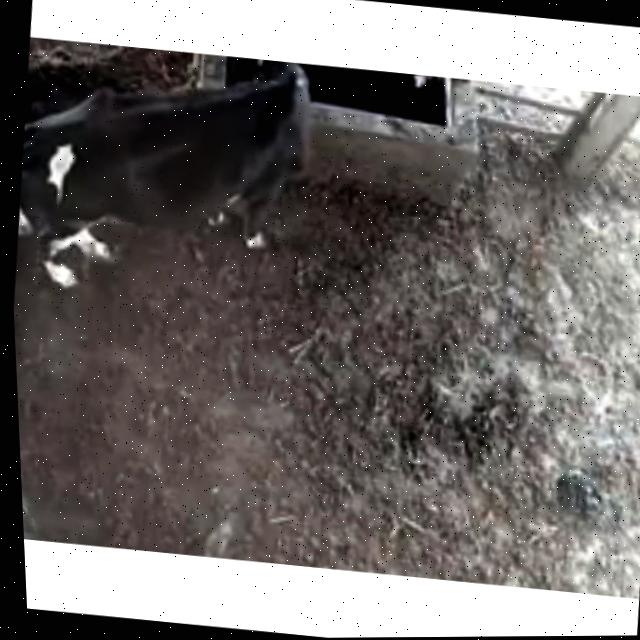drink: (183, 51, 350, 166)
